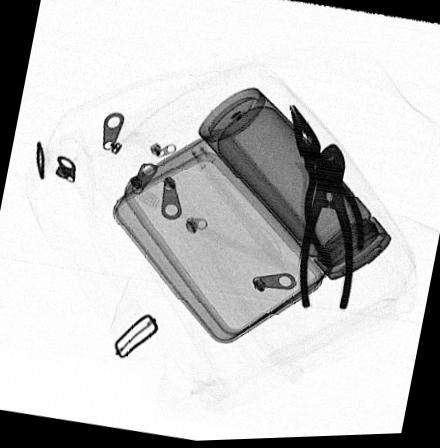Pliers: (287, 104, 366, 264), (298, 144, 352, 311)
